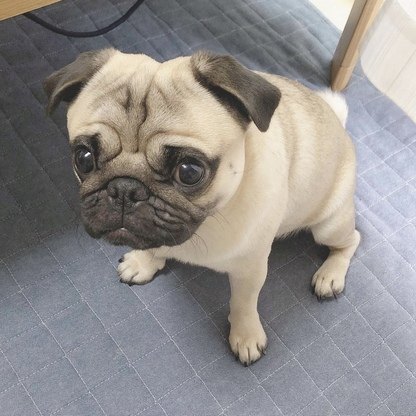Pug: (37, 43, 369, 371)
